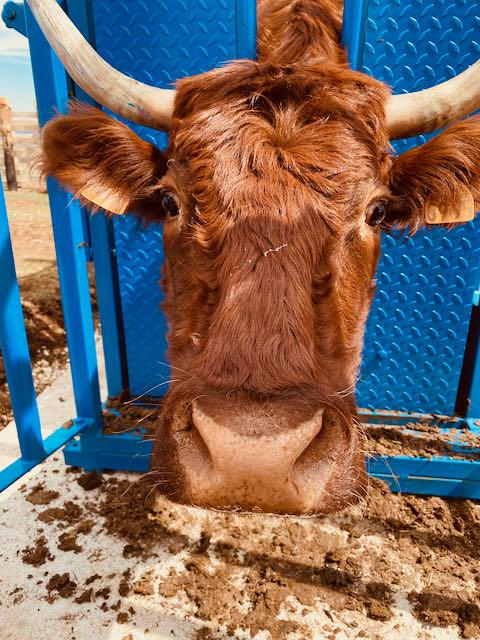muzzles: (129, 377, 393, 524)
